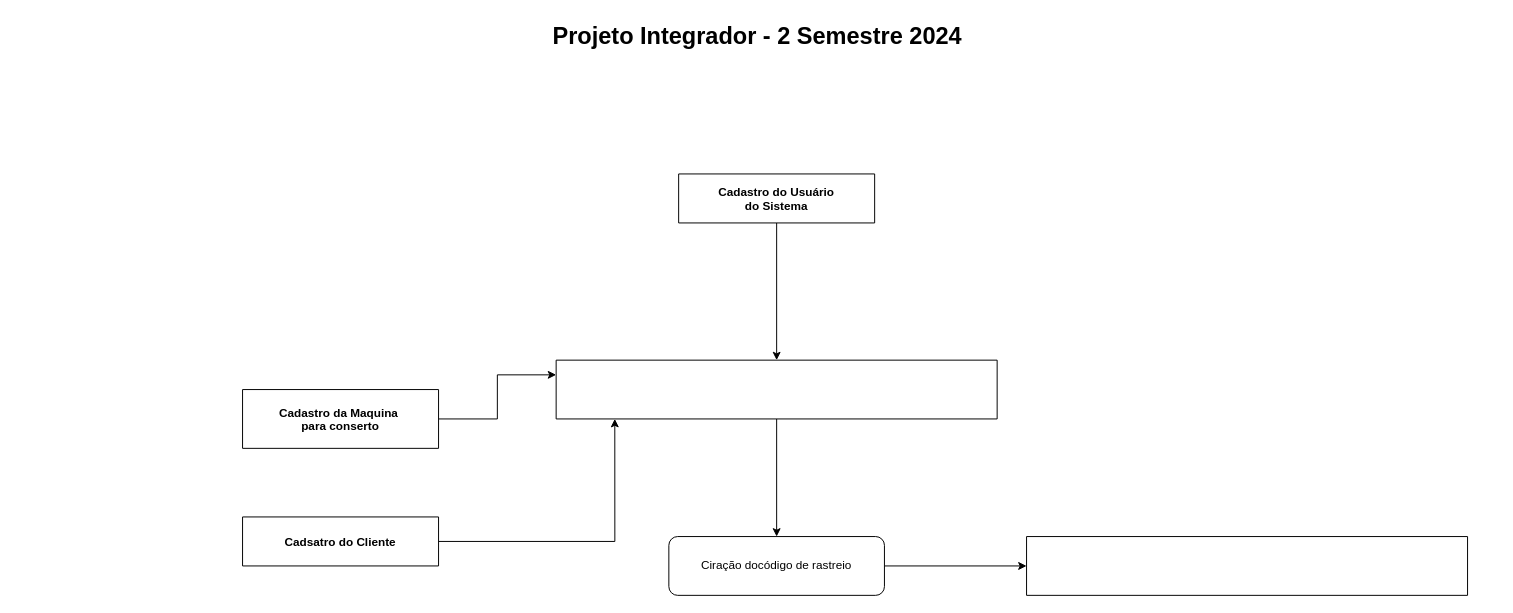
Image size: 1513x613. Some labels were removed from this diagram. Here are the shapes that lost their labels. From the top down, the centre of each, then its label:
At (x=776, y=389): "Cadsatro do Serviço".
At (x=1247, y=565): "Consulta para acompanhamento do cliente".
